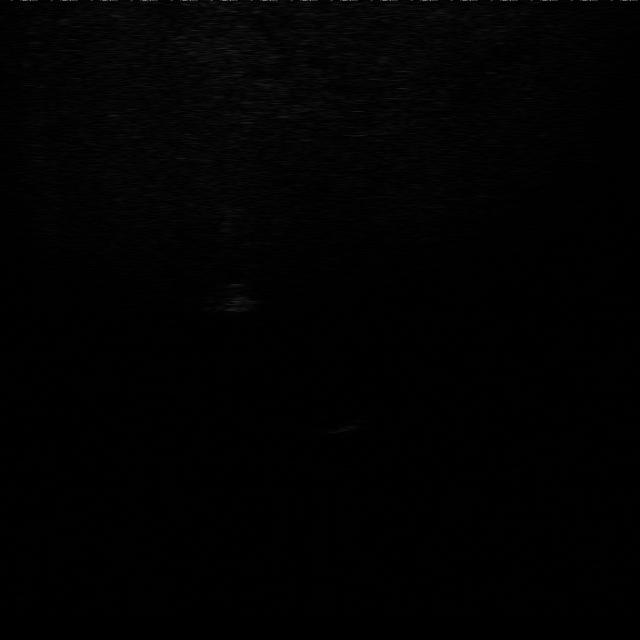ball: (211, 195, 251, 222)
circle cage: (204, 279, 264, 316)
tyre: (318, 407, 368, 442)
